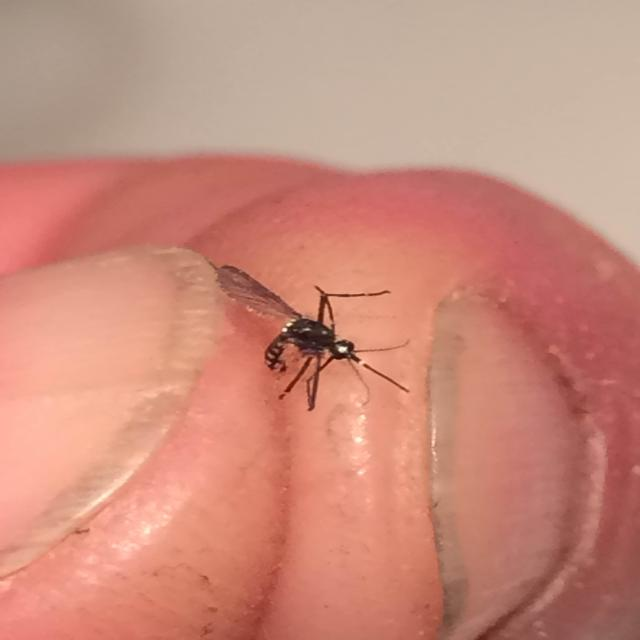albopictus: (247, 277, 412, 413)
